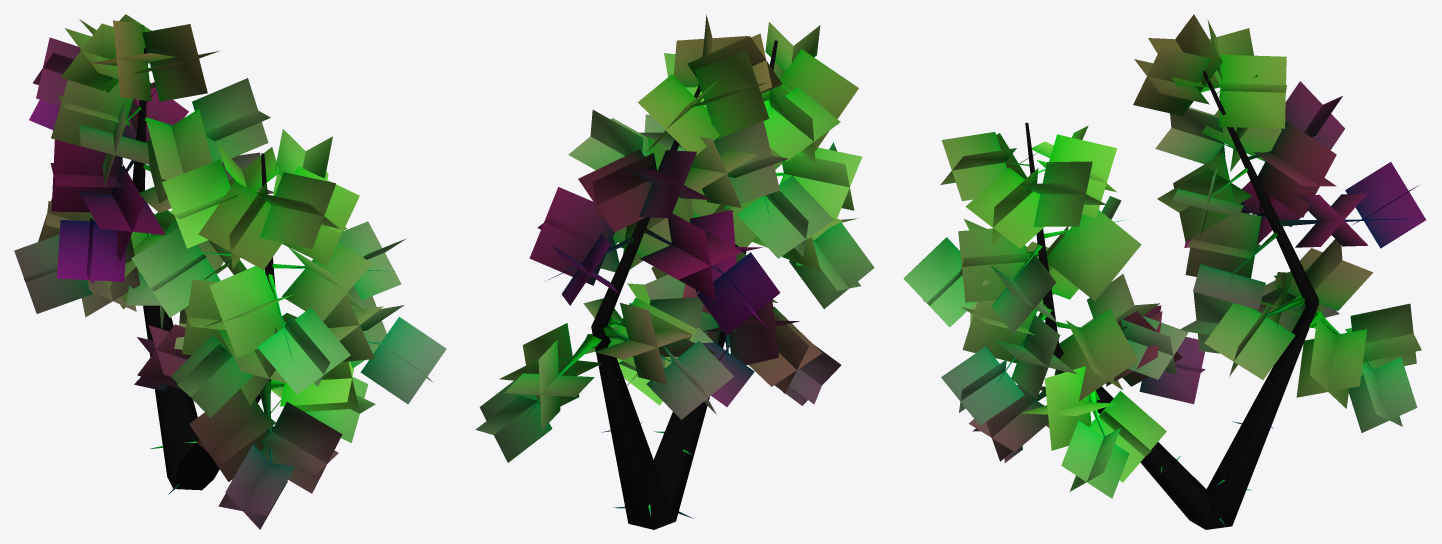
File: URP_P7_Tree_10_LOD_3.fbx
3 renders of one model, left to right at view 1: azimuth 30°, elevation 25°; view 2: azimuth 150°, elevation 25°; view 3: azimuth 270°, elevation 25°, orthographic. The views are drawn at different scales.
Visible parts, largest first — view 1: Tree_10_LOD_3; view 2: Tree_10_LOD_3; view 3: Tree_10_LOD_3.
Boxes of the visible parts, left/top/right/bottom form: Tree_10_LOD_3: left=14, top=14, right=446, bottom=529; Tree_10_LOD_3: left=475, top=14, right=874, bottom=529; Tree_10_LOD_3: left=903, top=14, right=1425, bottom=529.
Size of the model in its own units: 250 by 470 by 480.
